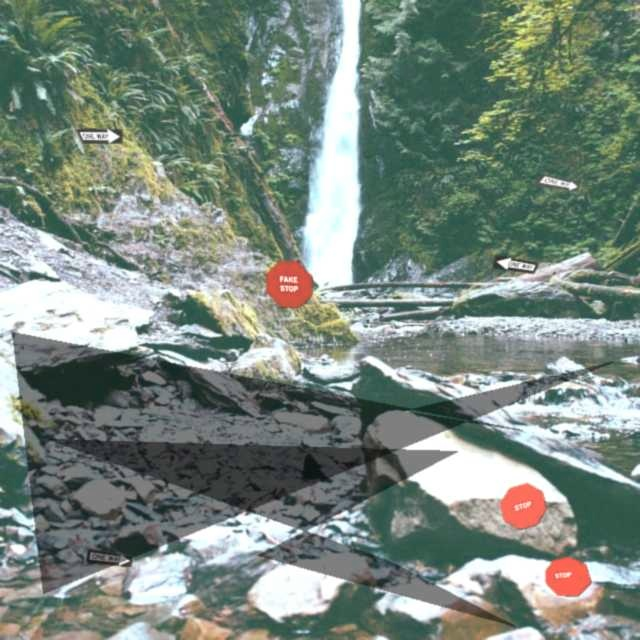FAKE_STOP: (265, 260, 313, 308)
ONE_WAY_ left: (491, 254, 539, 274)
ONE_WAY_ right: (531, 173, 579, 192), (85, 548, 133, 567), (75, 128, 123, 144)
STOP: (499, 482, 547, 530), (544, 556, 592, 597)
